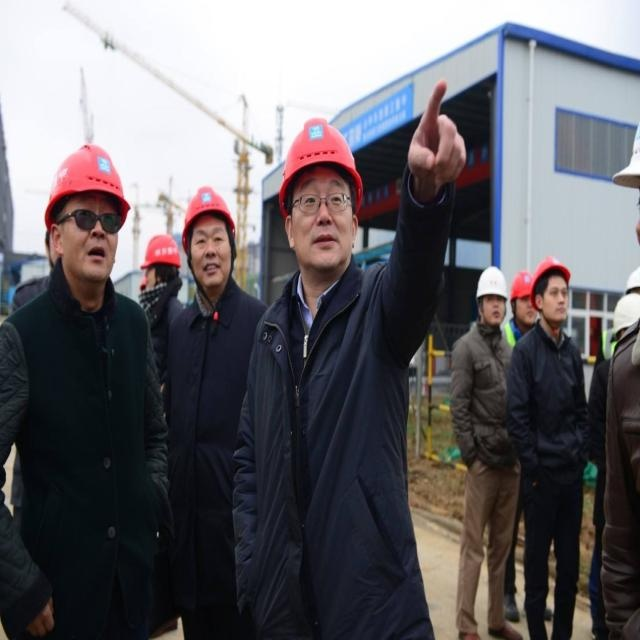Con_Casco: (284, 113, 360, 270)
Sin_Chaleco: (0, 294, 155, 609)
